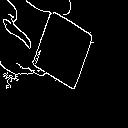cube: (31, 9, 101, 100)
